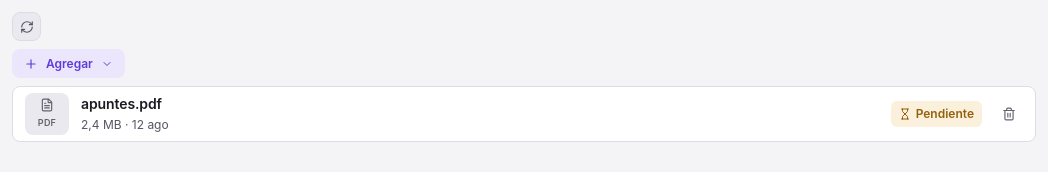
AdjuntosContainer › locks "Sincronizar" while the sync is in flight and releases it when it settles
Expected: the text "apuntes.pdf" is shown, [81, 95, 162, 112]
Click the button named "Sincronizar": (26, 26) [12, 12, 41, 41]
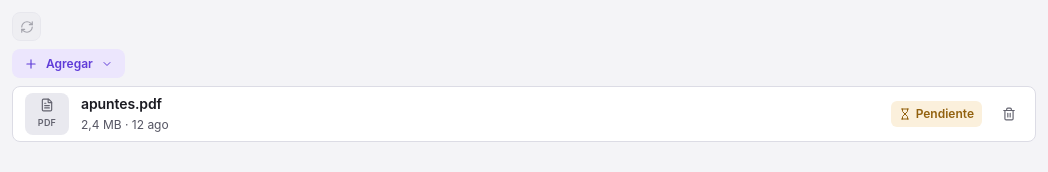
Expected: the button named "Sincronizar" is disabled
Click the button named "Sincronizar": (26, 26) [12, 12, 41, 41]
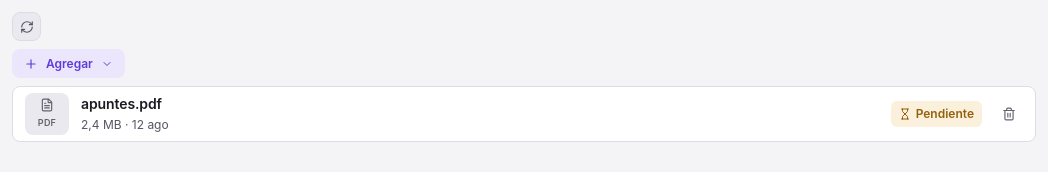
Expected: the button named "Sincronizar" is enabled, [12, 12, 41, 41]
